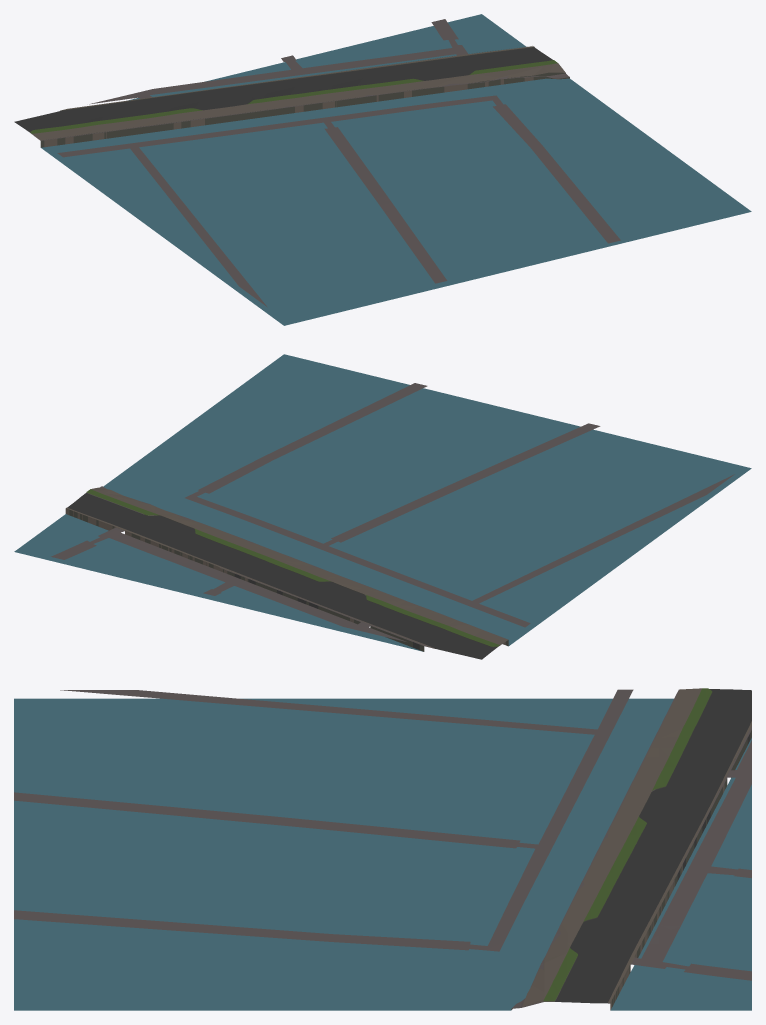
3 renders of one model, top to bottom at view 1: azimuth 30°, elevation 25°; view 2: azimuth 150°, elevation 25°; view 3: azimuth 270°, elevation 25°, orthographic. The views are drawn at different scales.
Parts seen in each view (by area): view 1: c_p05_m04; view 2: c_p05_m04; view 3: c_p05_m04.
Boxes of the visible parts, x1,y1,x2,y2 form: c_p05_m04: [14, 14, 751, 325]; c_p05_m04: [14, 354, 751, 659]; c_p05_m04: [14, 688, 751, 1010].
Bounding box in the file's own units: 128 × 2 × 128.
